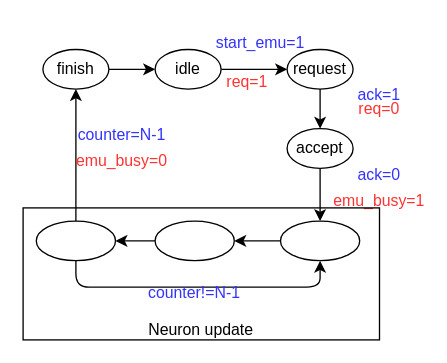
The diagram is 447 pixels wide and 363 high, and some of its shapes have lost their labels. The centre of each missing label's shape, as x and y in pixels:
"get voltage" goes at point 319,240.
"set voltage" goes at point 75,240.
"update voltage" goes at point 194,240.
